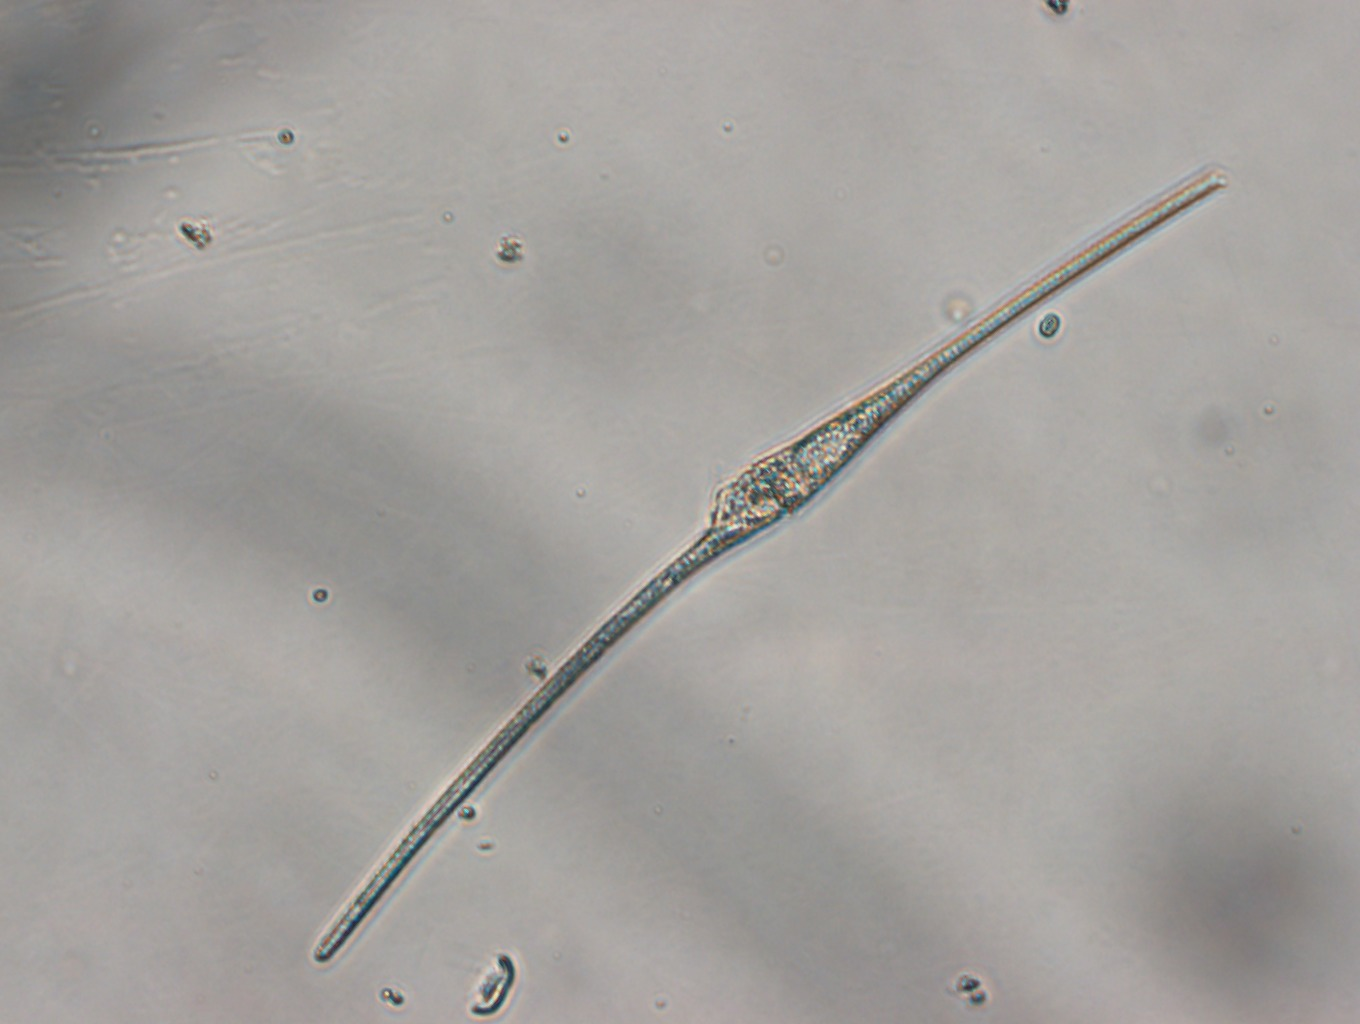ceratium fusus: (306, 160, 1237, 965)
